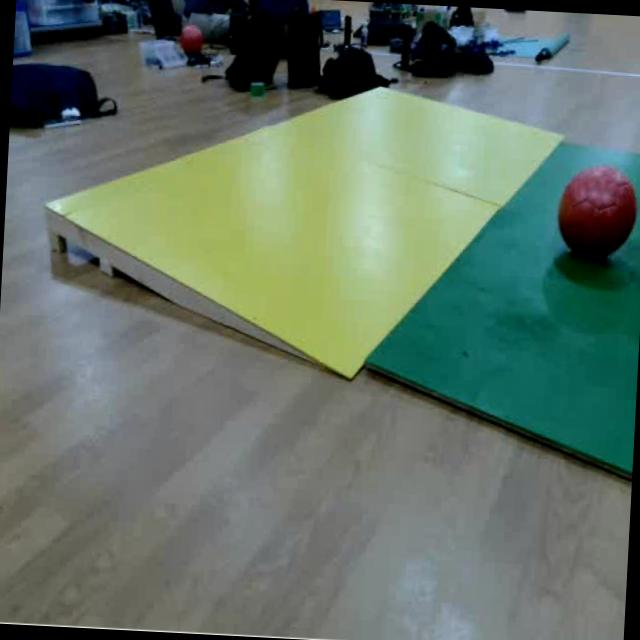red_ball: (556, 161, 640, 261), (178, 22, 205, 56)
